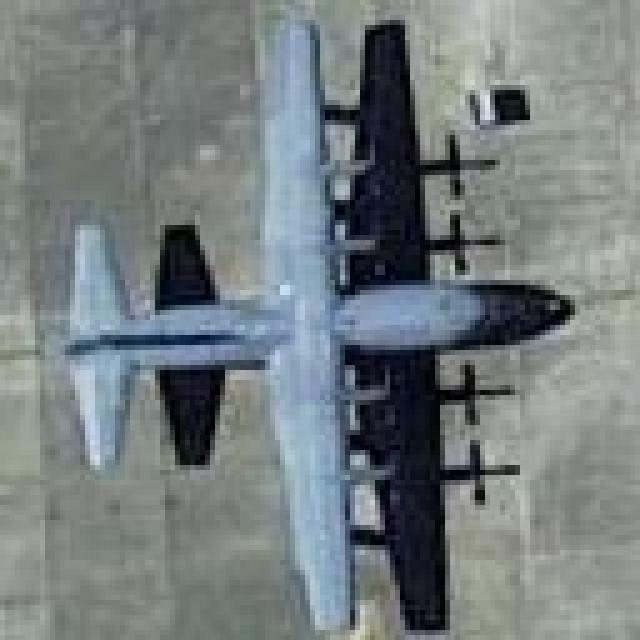C-130_TopDown: (56, 13, 574, 637)
